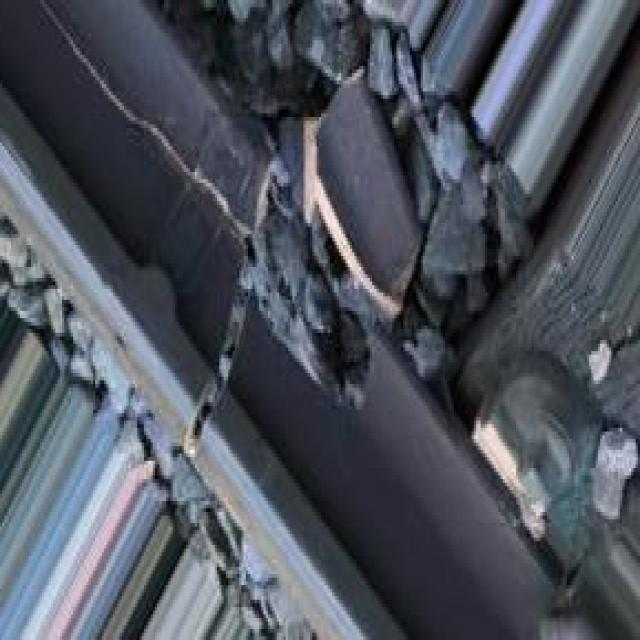crack: (142, 88, 367, 554)
